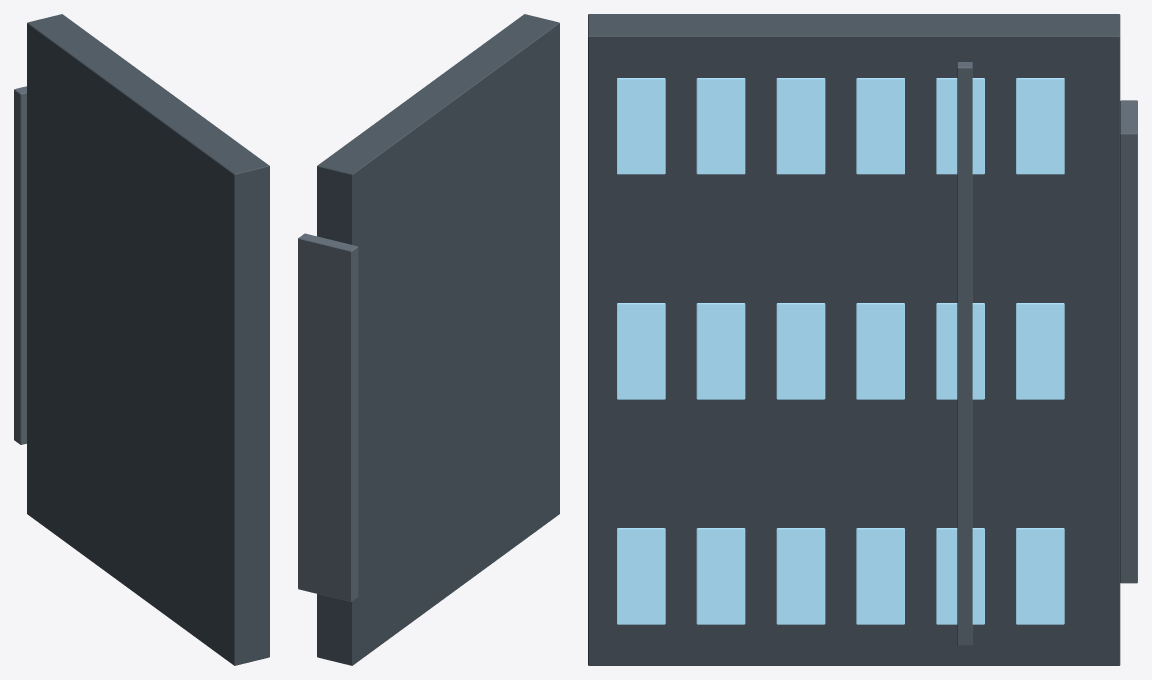
File: far_facade_shell_rift_l.glb
3 views of the same model, side by side, from view 1: azimuth 30°, elevation 25°; view 2: azimuth 150°, elevation 25°; view 3: azimuth 270°, elevation 25° (orthographic). The views are drawn at different scales.
Parts seen in each view (by area): view 1: FlightKit_FarFacadeShell_rift_L; view 2: FlightKit_FarFacadeShell_rift_L; view 3: FlightKit_FarFacadeShell_rift_L.
Boxes of the visible parts, x1,y1,x2,y2 form: FlightKit_FarFacadeShell_rift_L: (14, 14, 269, 665); FlightKit_FarFacadeShell_rift_L: (298, 14, 559, 665); FlightKit_FarFacadeShell_rift_L: (588, 14, 1137, 665).
Bounding box in the file's own units: 1.8 × 15.68 × 12.4.
